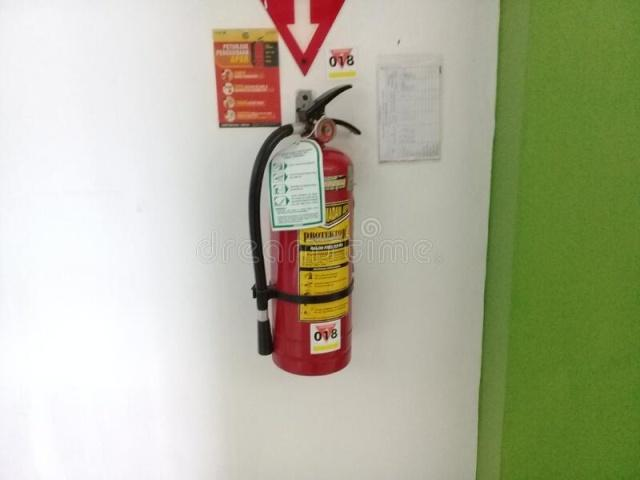APAR: (267, 84, 355, 377)
